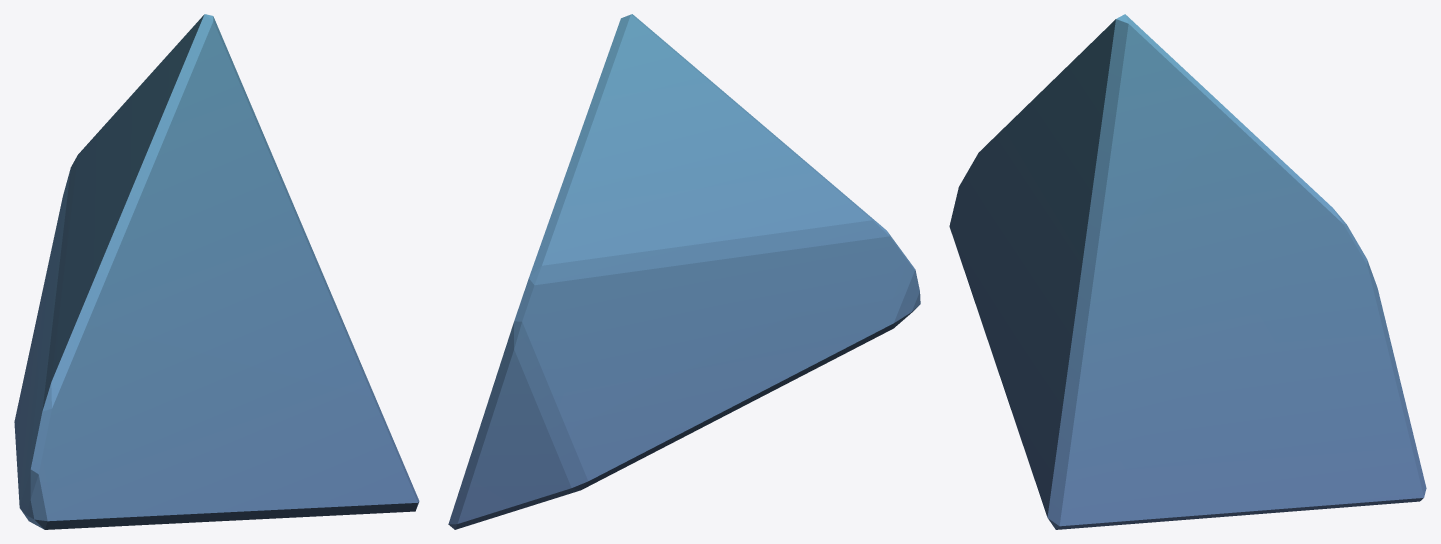
The model's file is cristal_estilhaco_3.fbx.
3 renders of one model, left to right at view 1: azimuth 30°, elevation 25°; view 2: azimuth 150°, elevation 25°; view 3: azimuth 270°, elevation 25°, orthographic. The views are drawn at different scales.
Parts seen in each view (by area): view 1: cristal_estilhaco_3; view 2: cristal_estilhaco_3; view 3: cristal_estilhaco_3.
Part boxes in pixels (left/top/right/bottom): cristal_estilhaco_3: left=14, top=14, right=419, bottom=529; cristal_estilhaco_3: left=448, top=14, right=920, bottom=529; cristal_estilhaco_3: left=949, top=14, right=1426, bottom=529.
Size of the model in its own units: 2.2 by 2.53 by 2.35.
